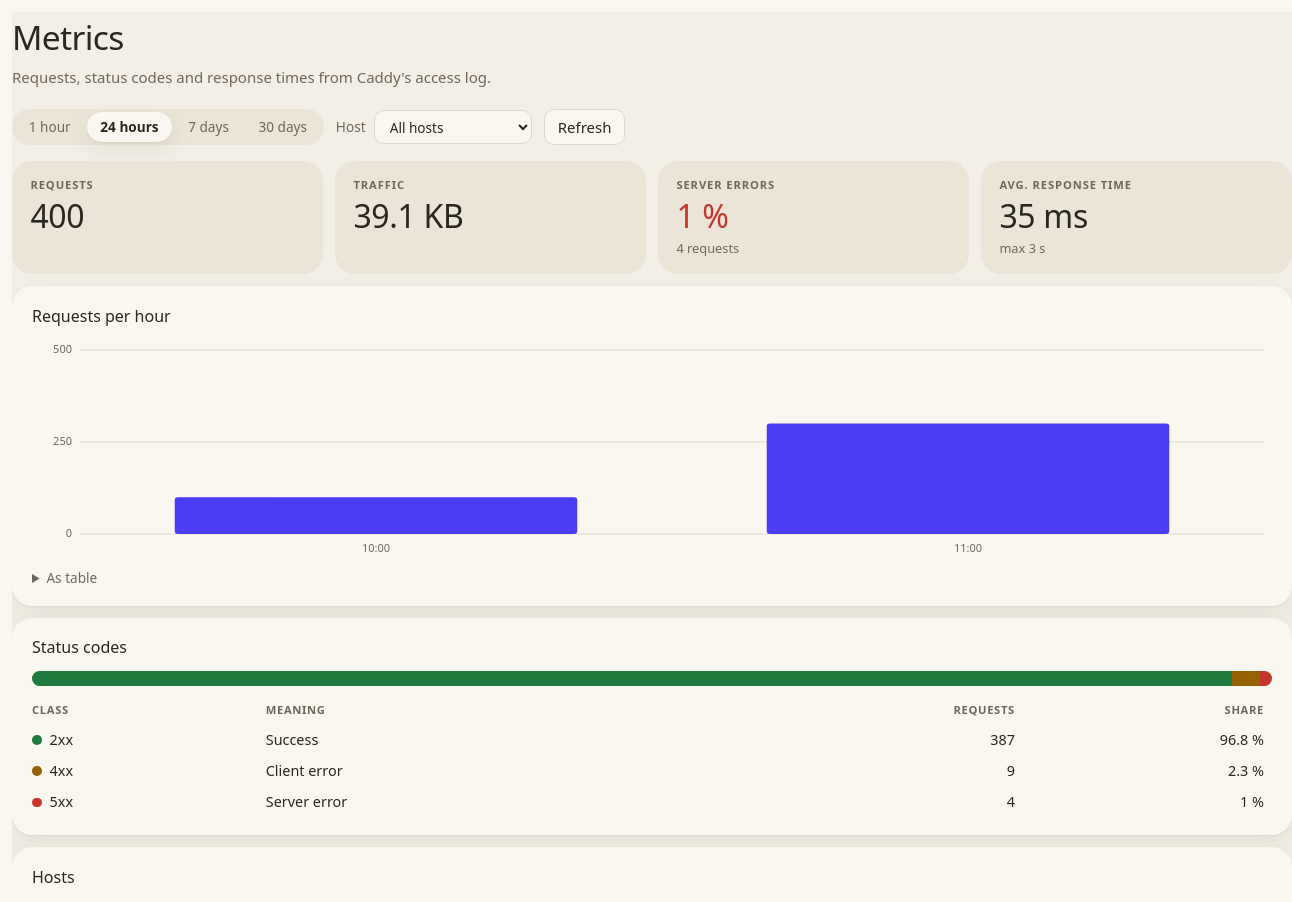
Test: MetricsView periods › reads the last hour by the minute
Expected: the element "Requests" is shown, top-left (12, 161), bottom-right (323, 274)
Step 1. Click the radio button labelled "1 hour" → (50, 127), box top-left (15, 112), bottom-right (84, 142)
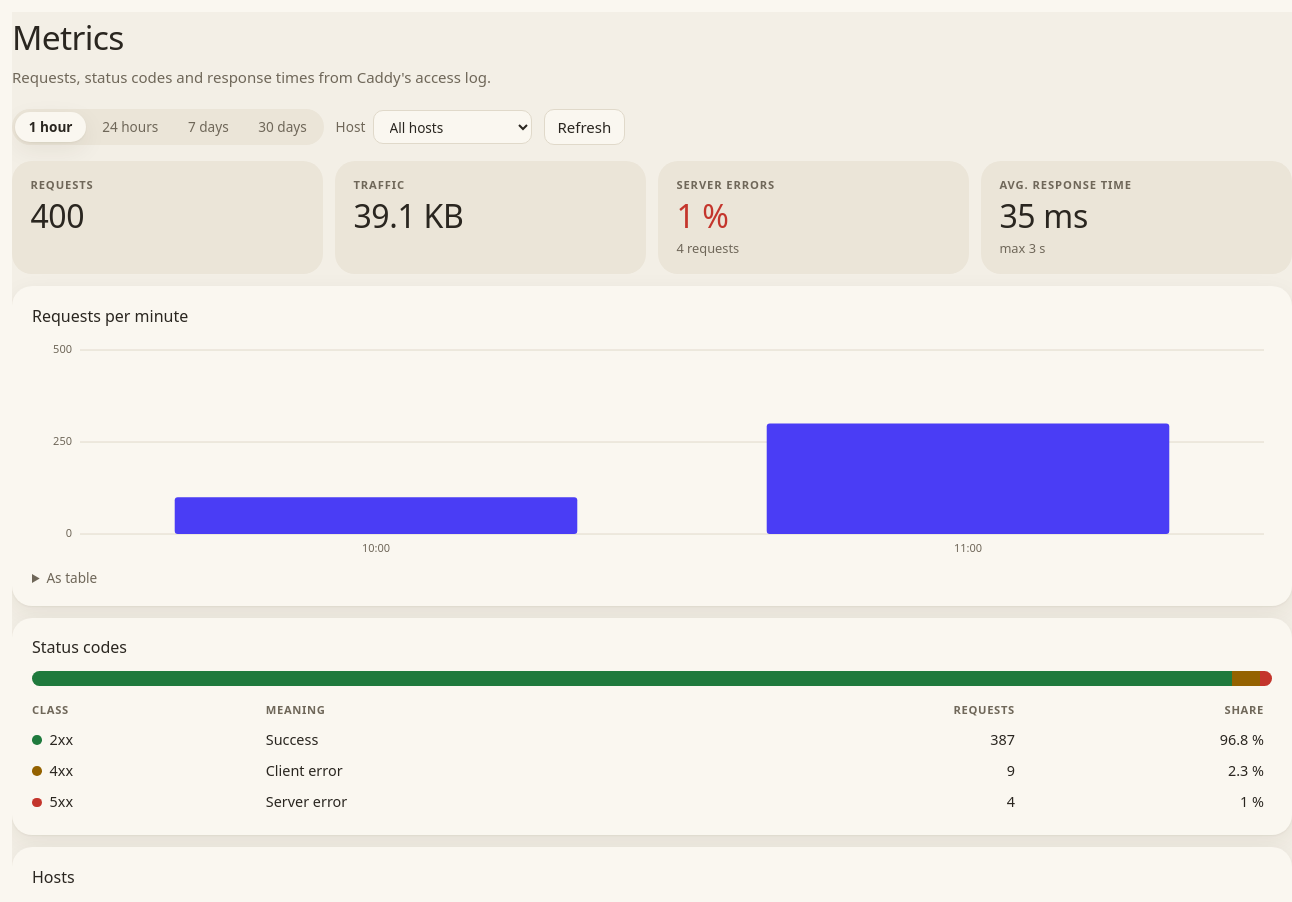
Now the heading "Requests per minute" is shown, box top-left (32, 305), bottom-right (188, 327)
